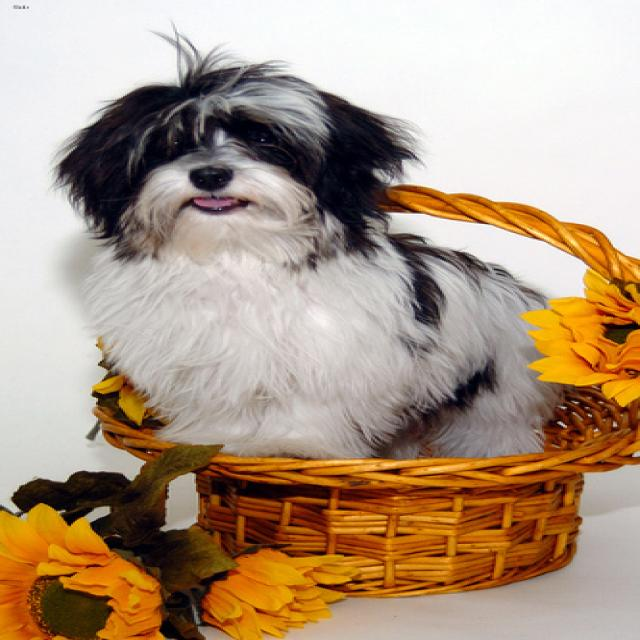dog-havanese: (37, 14, 578, 474)
